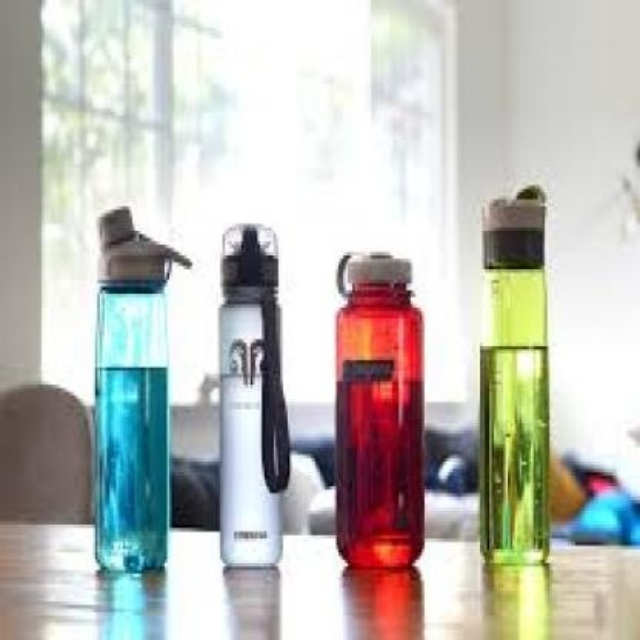trash: (95, 206, 189, 571), (335, 254, 423, 566), (480, 186, 548, 563), (220, 225, 288, 565)
